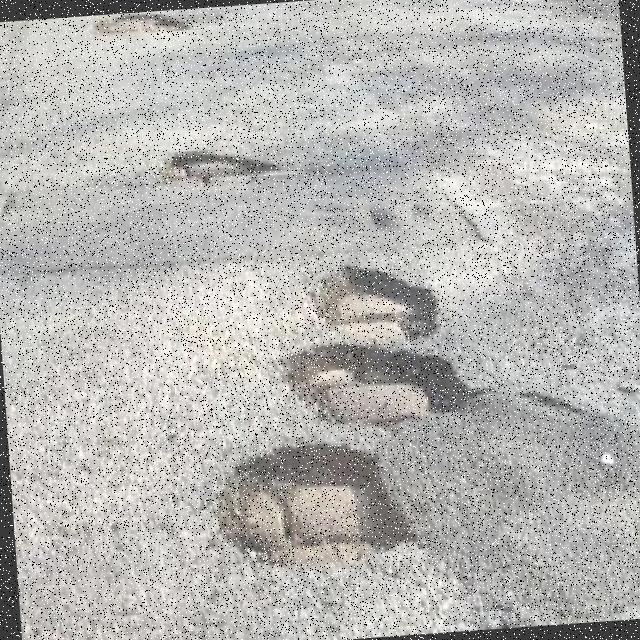Pothole: (210, 445, 417, 552), (288, 343, 469, 425), (313, 266, 436, 339), (160, 151, 279, 183), (92, 11, 188, 35)
